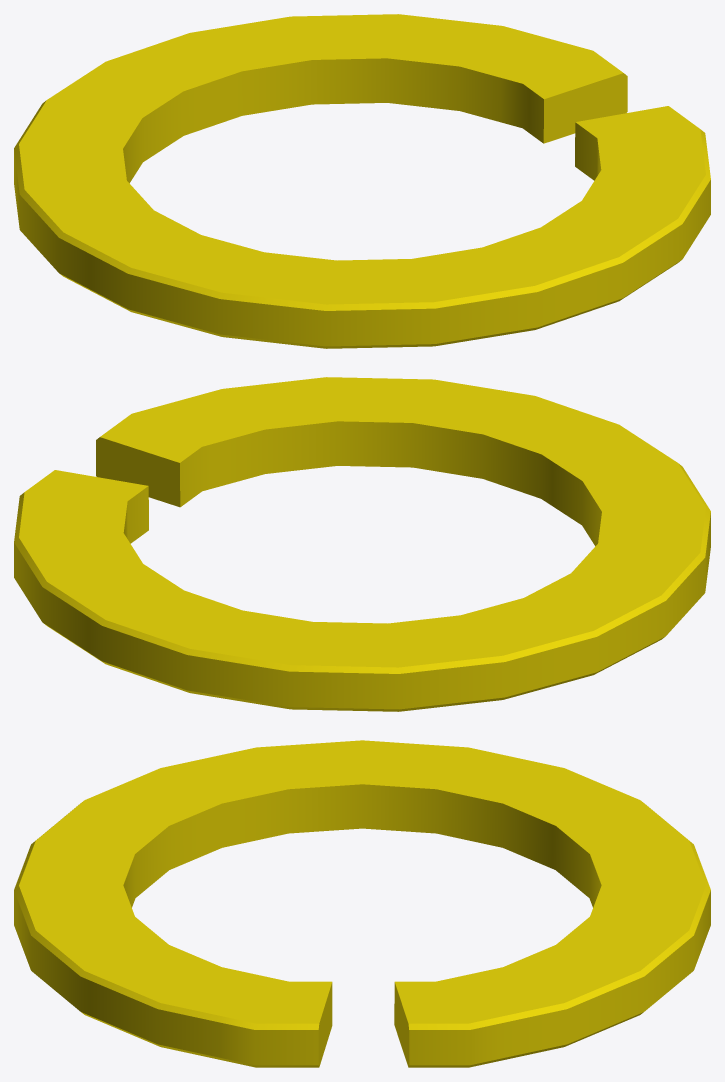
Rendered from Mid Support.fbx.
3 views of the same model, one above another, from view 1: azimuth 30°, elevation 25°; view 2: azimuth 150°, elevation 25°; view 3: azimuth 270°, elevation 25° (orthographic).
Parts seen in each view (by area): view 1: Mid_Support; view 2: Mid_Support; view 3: Mid_Support.
Boxes of the visible parts, <box> form: Mid_Support: <box>14,14,710,348</box>; Mid_Support: <box>14,377,710,711</box>; Mid_Support: <box>14,740,710,1067</box>.
Bounding box in the file's own units: 107 × 7.66 × 110.
